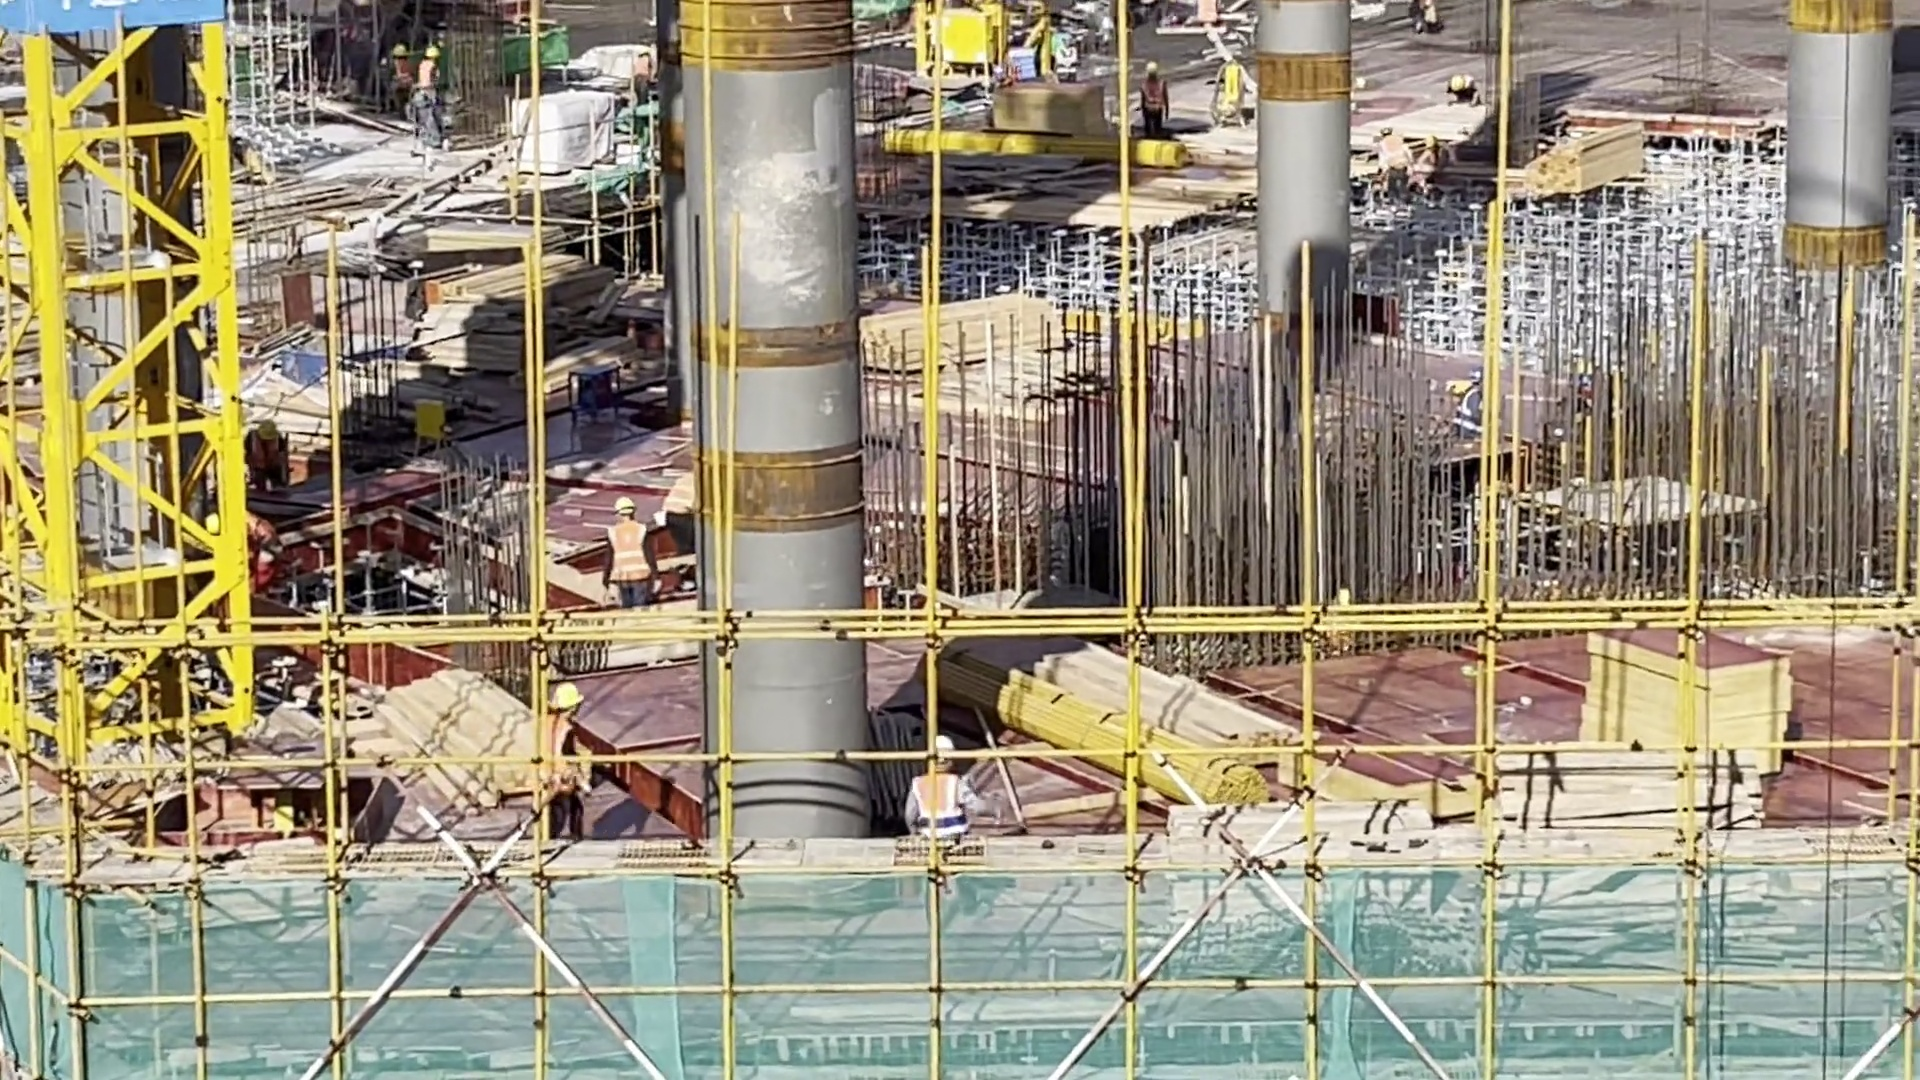board: (1578, 622, 1790, 764), (417, 260, 619, 369)
helmet: (552, 684, 581, 707), (617, 497, 635, 513)
person: (533, 680, 593, 837), (904, 735, 992, 837), (597, 493, 663, 595), (250, 415, 293, 495)
vest: (914, 775, 977, 831), (548, 725, 577, 802), (609, 530, 647, 581)
wood: (996, 643, 1292, 799), (367, 664, 543, 804), (864, 296, 1060, 368), (1519, 129, 1651, 203)
